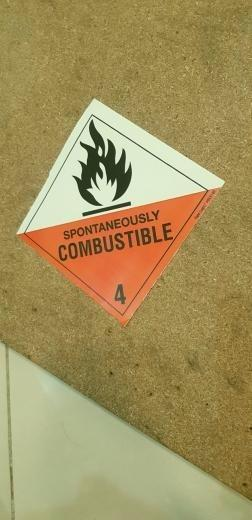spontaneously-combustible: (17, 99, 224, 327)
